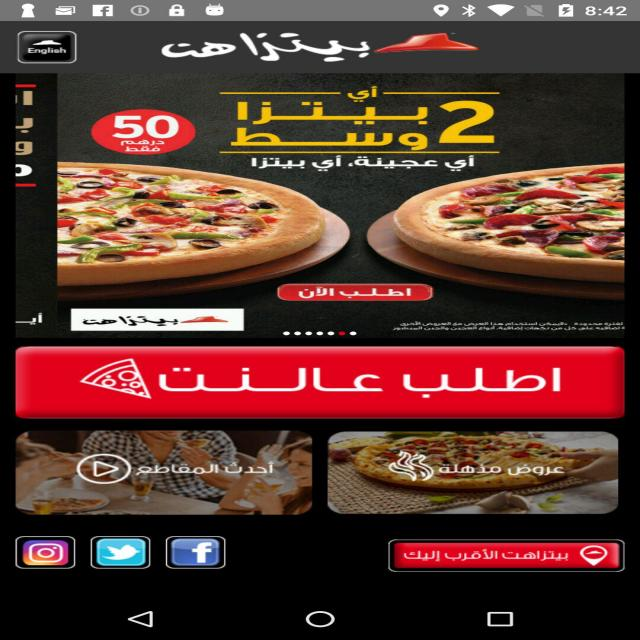button: (20, 346, 625, 422), (12, 425, 319, 518), (322, 426, 619, 521), (12, 532, 238, 572), (380, 538, 622, 575), (269, 282, 439, 305), (7, 27, 88, 65)
icon: (7, 80, 40, 188)
image: (58, 156, 640, 277), (26, 430, 307, 509), (346, 433, 602, 509), (372, 30, 482, 64), (81, 358, 155, 404), (182, 311, 249, 327)
text: (225, 90, 532, 153), (160, 360, 578, 399), (139, 30, 375, 61), (78, 104, 204, 160), (379, 319, 637, 336), (396, 546, 579, 566), (284, 286, 426, 303), (68, 309, 180, 329)
